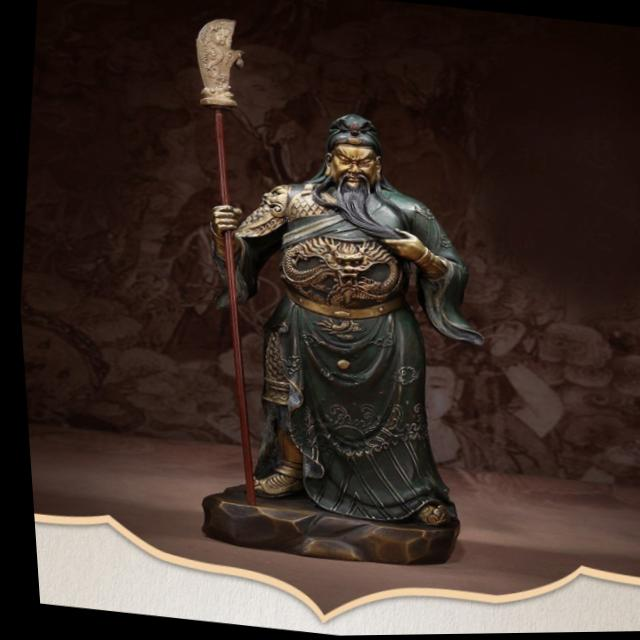Guan Yu: (169, 93, 515, 565)
